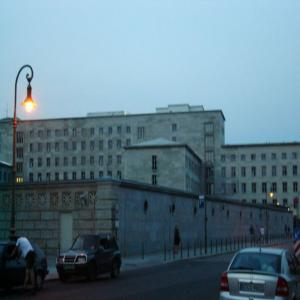Vehicle-registration-plate: (241, 283, 265, 293)
